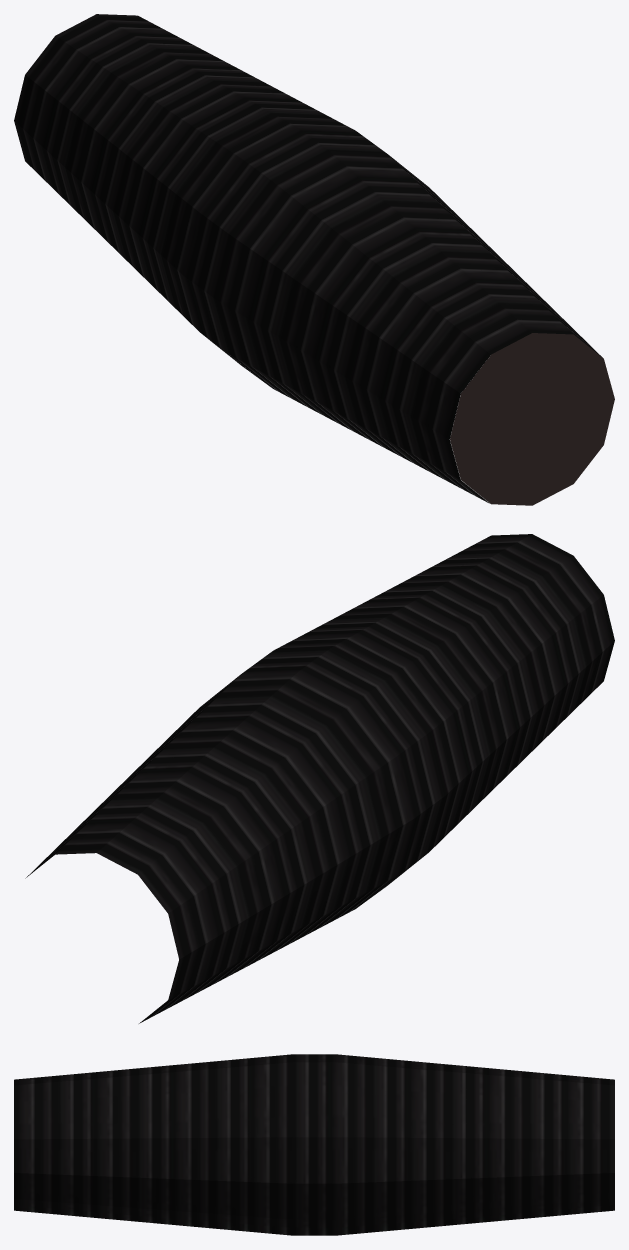
File: cp066-geode.glb
The picture shows the model from 3 angles, top to bottom: view 1: azimuth 30°, elevation 25°; view 2: azimuth 150°, elevation 25°; view 3: azimuth 270°, elevation 25°; orthographic projection. The views are drawn at different scales.
Parts seen in each view (by area): view 1: Node; view 2: Node; view 3: Node.
Part boxes in pixels (left/top/right/bottom): Node: left=14, top=14, right=614, bottom=505; Node: left=25, top=534, right=614, bottom=1023; Node: left=14, top=1054, right=614, bottom=1235.
Size of the model in its own units: 0.5811 by 0.5811 by 1.92.
Materials: 2 (2 with a texture image).
